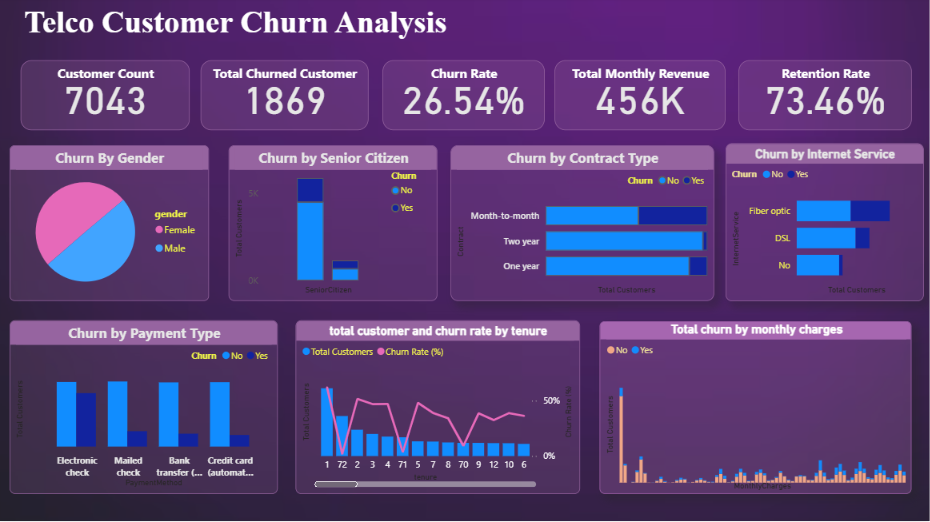

The dashboard page shown, as its layout file describes it:
{"tool":"powerbi","page":{"name":"Page 1","canvas":[1280,720],"ordinal":0},"visuals":[{"type":"card","title":"Customer Count","fields":{"Values":["Telco_Customer_Churn_Dataset  (2).Total Customers"]},"box":[31.6,86.4,231.9,96.1],"z":0},{"type":"card","title":"Churn Rate","fields":{"Values":["Telco_Customer_Churn_Dataset  (2).Churn Rate (%)"]},"box":[528.3,86.4,222.3,96.1],"z":1000},{"type":"card","title":"Total Churned Customer","fields":{"Values":["Telco_Customer_Churn_Dataset  (2).total churn"]},"box":[278.6,86.4,230.5,96.1],"z":2000},{"type":"card","title":"Total Monthly Revenue","fields":{"Values":["Telco_Customer_Churn_Dataset  (2).Total Monthly Revenue"]},"box":[764.3,86.4,234.6,96.1],"z":3000},{"type":"card","title":"Retention Rate","fields":{"Values":["Telco_Customer_Churn_Dataset  (2).Retention Rate"]},"box":[1016.8,86.4,237.4,96.1],"z":4000},{"type":"pieChart","title":"Churn By Gender","fields":{"Category":["Telco_Customer_Churn_Dataset  (2).gender"],"Y":["Telco_Customer_Churn_Dataset  (2).Total Customers"]},"box":[16.7,203.3,273.3,213.3],"z":5000},{"type":"columnChart","title":"Churn by Senior Citizen","fields":{"Category":["Telco_Customer_Churn_Dataset  (2).SeniorCitizen"],"Series":["Telco_Customer_Churn_Dataset  (2).Churn"],"Y":["Telco_Customer_Churn_Dataset  (2).Total Customers"]},"box":[316.7,203.3,286.7,213.3],"z":6000},{"type":"hundredPercentStackedBarChart","title":"Churn by Contract Type","fields":{"Category":["Telco_Customer_Churn_Dataset  (2).Contract"],"Series":["Telco_Customer_Churn_Dataset  (2).Churn"],"Y":["Telco_Customer_Churn_Dataset  (2).Total Customers"]},"box":[621.7,203.3,361.7,213.3],"z":7000},{"type":"clusteredColumnChart","title":"Churn by Payment Type","fields":{"Category":["Telco_Customer_Churn_Dataset  (2).PaymentMethod"],"Series":["Telco_Customer_Churn_Dataset  (2).Churn"],"Y":["Telco_Customer_Churn_Dataset  (2).Total Customers"]},"box":[16.7,443.3,368.3,238.3],"z":8000},{"type":"barChart","title":"Churn by Internet Service","fields":{"Category":["Telco_Customer_Churn_Dataset  (2).InternetService"],"Series":["Telco_Customer_Churn_Dataset  (2).Churn"],"Y":["Telco_Customer_Churn_Dataset  (2).Total Customers"]},"box":[998.3,200,271.7,216.7],"z":9000},{"type":"lineClusteredColumnComboChart","title":"total customer and churn rate by tenure","fields":{"Y":["Telco_Customer_Churn_Dataset  (2).Total Customers"],"Y2":["Telco_Customer_Churn_Dataset  (2).Churn Rate (%)"],"Category":["Telco_Customer_Churn_Dataset  (2).tenure"]},"box":[408.3,443.3,390,238.3],"z":10000},{"type":"lineStackedColumnComboChart","title":"Total churn by monthly charges","fields":{"Category":["Telco_Customer_Churn_Dataset  (2).MonthlyCharges"],"Series":["Telco_Customer_Churn_Dataset  (2).Churn"],"Y":["Telco_Customer_Churn_Dataset  (2).Total Customers"]},"box":[826.7,445,428.3,236.7],"z":11000},{"type":"textbox","box":[31.6,4.1,967.4,64.5],"z":11001}]}

Visuals, with their boxes in screenshot pixels (x1, y1, x2, y2), scaled from the page's 1280x720 canvas onto the 930x522 screenshot:
"Customer Count" card: [23, 63, 191, 132]
"Churn Rate" card: [384, 63, 545, 132]
"Total Churned Customer" card: [202, 63, 370, 132]
"Total Monthly Revenue" card: [555, 63, 726, 132]
"Retention Rate" card: [739, 63, 911, 132]
"Churn By Gender" pieChart: [12, 147, 211, 302]
"Churn by Senior Citizen" columnChart: [230, 147, 438, 302]
"Churn by Contract Type" hundredPercentStackedBarChart: [452, 147, 715, 302]
"Churn by Payment Type" clusteredColumnChart: [12, 321, 280, 494]
"Churn by Internet Service" barChart: [725, 145, 923, 302]
"total customer and churn rate by tenure" lineClusteredColumnComboChart: [297, 321, 580, 494]
"Total churn by monthly charges" lineStackedColumnComboChart: [601, 323, 912, 494]
textbox: [23, 3, 726, 50]
